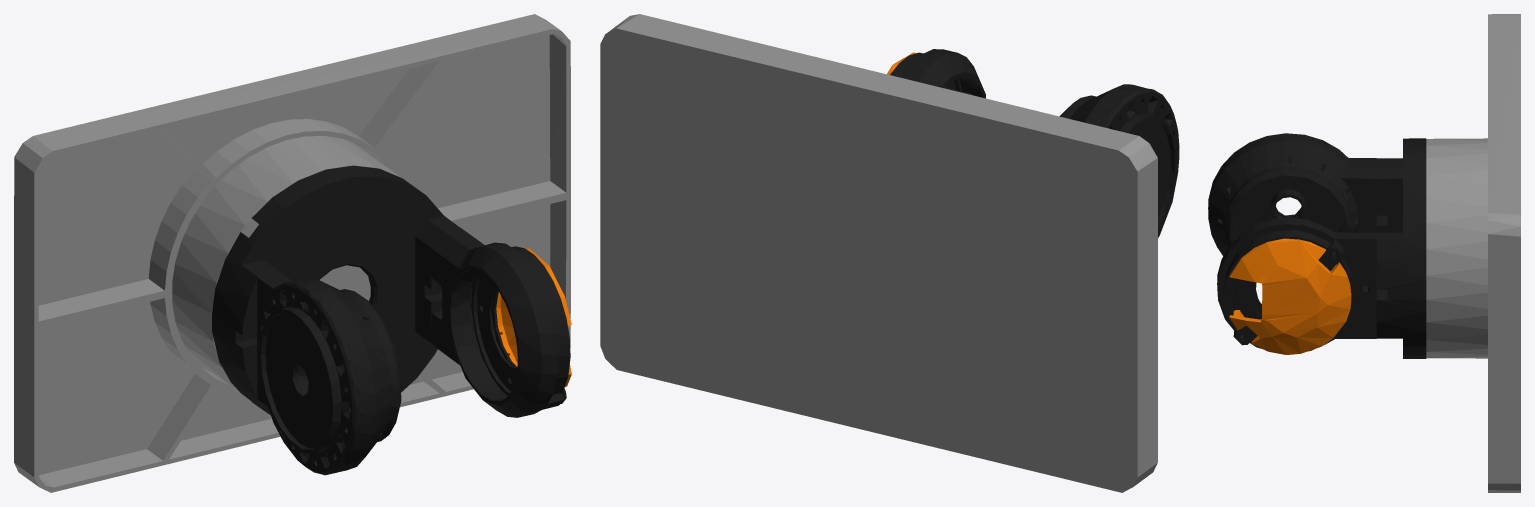
File: LLEG_LINK5_mesh.dae
3 renders of one model, left to right at view 1: azimuth 30°, elevation 25°; view 2: azimuth 150°, elevation 25°; view 3: azimuth 270°, elevation 25°, orthographic. The views are drawn at different scales.
Visible parts, largest first — view 1: LLEG_LINK5 (×3); view 2: LLEG_LINK5 (×2); view 3: LLEG_LINK5 (×3).
Boxes of the visible parts, box(x1,y1,x2,y2) form: LLEG_LINK5 (×3): box(14, 14, 571, 492); LLEG_LINK5 (×2): box(600, 14, 1179, 492); LLEG_LINK5 (×3): box(1208, 14, 1520, 492).
Bounding box in the file's own units: 0.2299 × 0.1398 × 0.1421.
